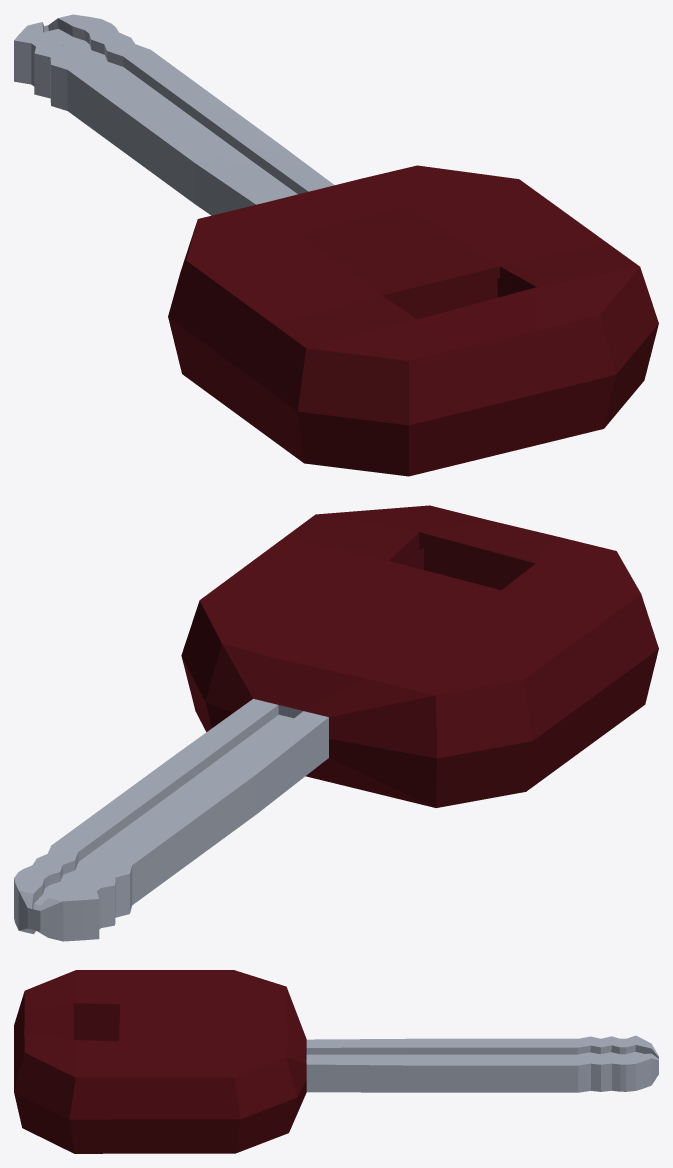
Rendered from Fietssleutel.fbx.
3 renders of one model, top to bottom at view 1: azimuth 30°, elevation 25°; view 2: azimuth 150°, elevation 25°; view 3: azimuth 270°, elevation 25°, orthographic. The views are drawn at different scales.
Visible parts, largest first — view 1: Sleutelhandding, metaal; view 2: Sleutelhandding, metaal; view 3: Sleutelhandding, metaal.
Part boxes in pixels (left/top/right/bottom): Sleutelhandding: left=168, top=165, right=658, bottom=476; metaal: left=14, top=14, right=334, bottom=215; Sleutelhandding: left=181, top=505, right=658, bottom=807; metaal: left=14, top=699, right=328, bottom=941; Sleutelhandding: left=14, top=970, right=306, bottom=1153; metaal: left=306, top=1035, right=658, bottom=1092.
Size of the model in its own units: 60.94 by 19.34 by 143.
